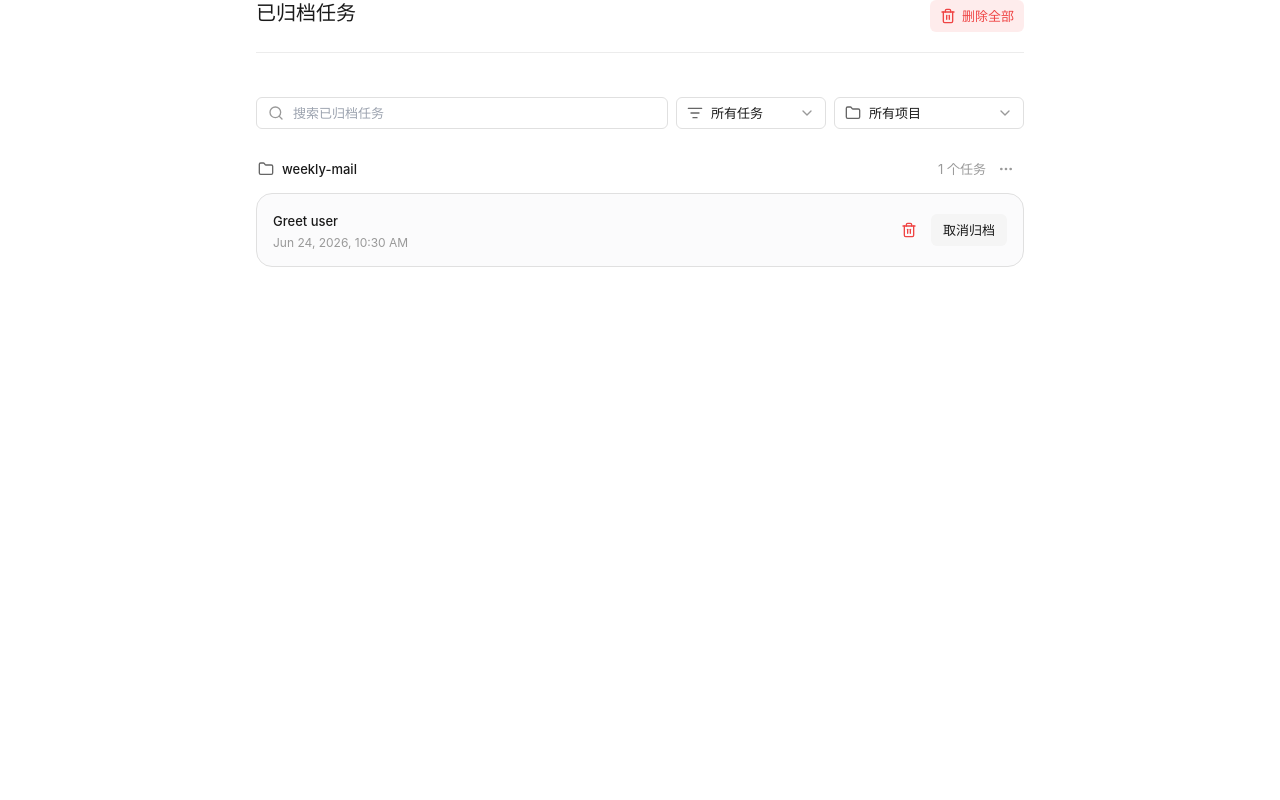
Test case: ArchivedConversationsSettingsPage › keeps the confirmation recoverable and renders an inline error when single delete fails
The width and height of the screenshot is (1280, 800).
expect the button "Greet user" is shown: met, box [273, 212, 338, 230]
Click the button with test id "archived-delete-button-device-1-codex-1": (909, 230) [893, 214, 925, 246]
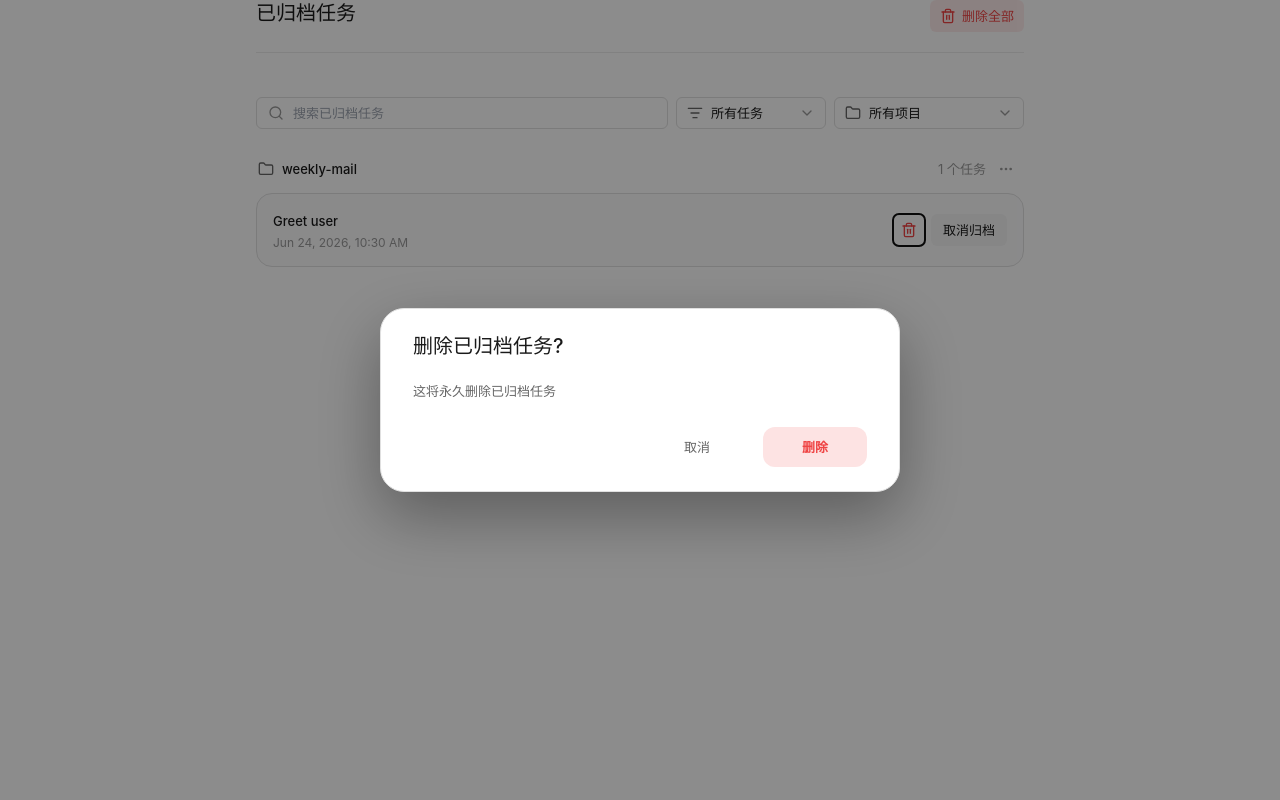
Click the button with test id "archived-delete-confirm-dialog-confirm-button": (815, 447) [763, 427, 867, 467]
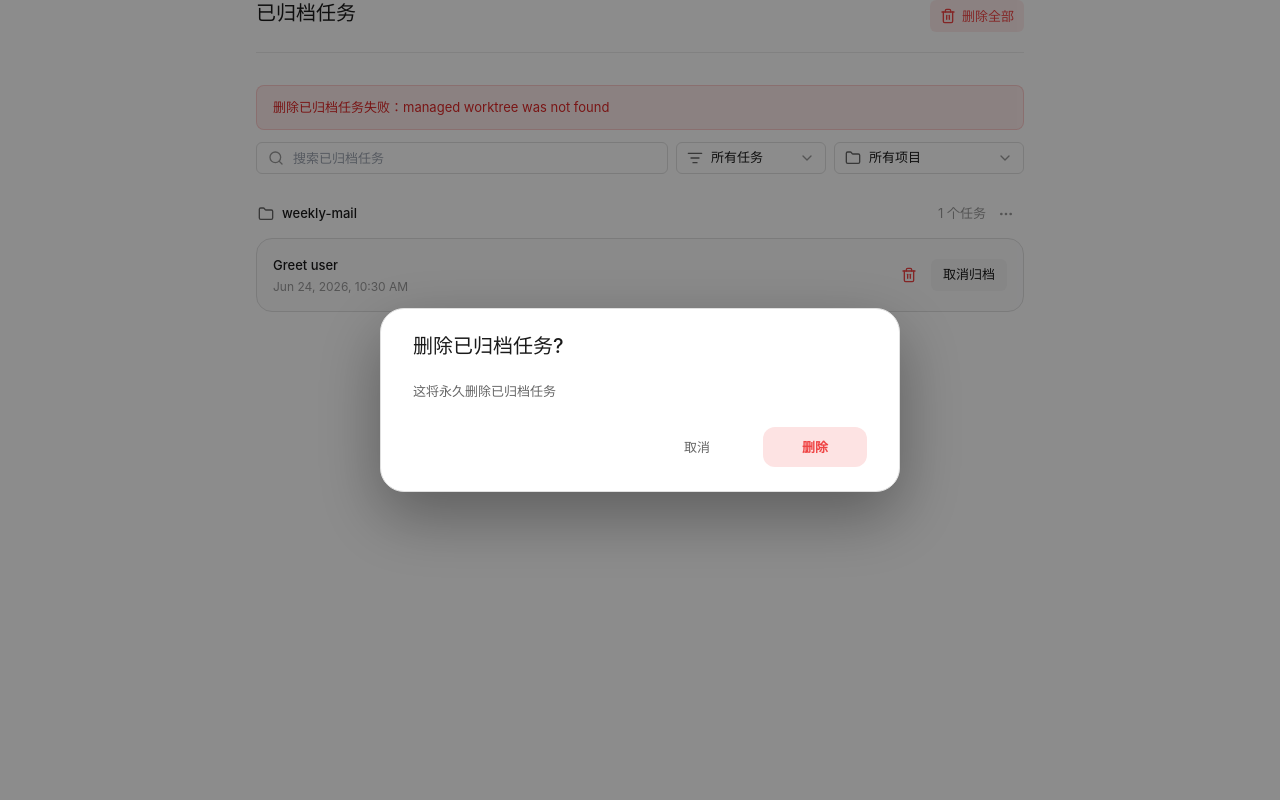
expect the button "Greet user" is shown: met, box [273, 256, 338, 275]
expect the dialog with test id "archived-delete-confirm-dialog" is shown: met, box [380, 308, 900, 492]
expect the text with test id "archived-operation-error" shows "managed worktree was not found": met, box [273, 99, 609, 115]
